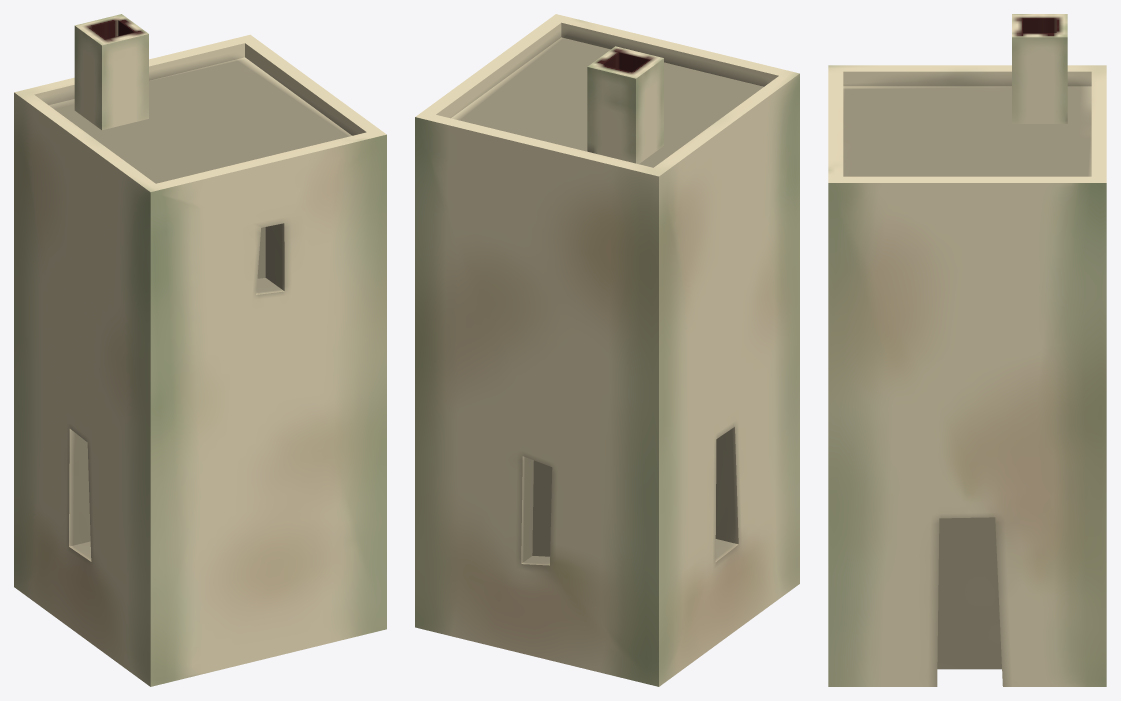
File: House4.fbx
3 views of the same model, side by side, from view 1: azimuth 30°, elevation 25°; view 2: azimuth 150°, elevation 25°; view 3: azimuth 270°, elevation 25° (orthographic). The views are drawn at different scales.
Visible parts, largest first — view 1: House 4; view 2: House 4; view 3: House 4.
Part boxes in pixels (left/top/right/bottom): House 4: left=14, top=14, right=386, bottom=686; House 4: left=415, top=14, right=799, bottom=686; House 4: left=828, top=14, right=1106, bottom=686.
Bounding box in the file's own units: 200 × 457 × 200.
